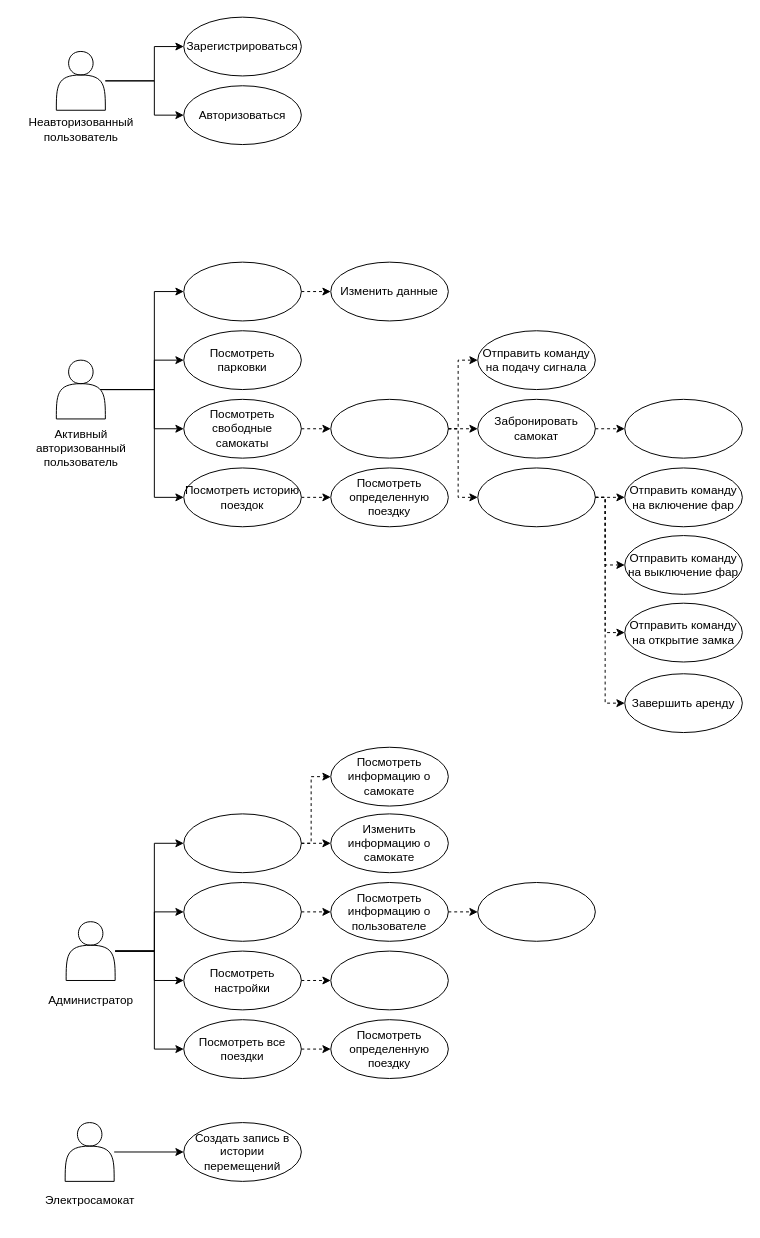
The diagram is 760 pixels wide and 1238 high, and some of its shapes have lost their labels. Each missing label, with the centre of its shape:
Взять самокат в аренду: (536,497)
Заблокировать пользователя: (536,911)
Изменить настройку: (389,980)
Открыть личный кабинет: (242,291)
Отменить бронирование: (683,428)
Посмотреть все самокаты: (242,843)
Посмотреть всех пользователей: (242,911)
Посмотреть определенный самокат: (389,428)
